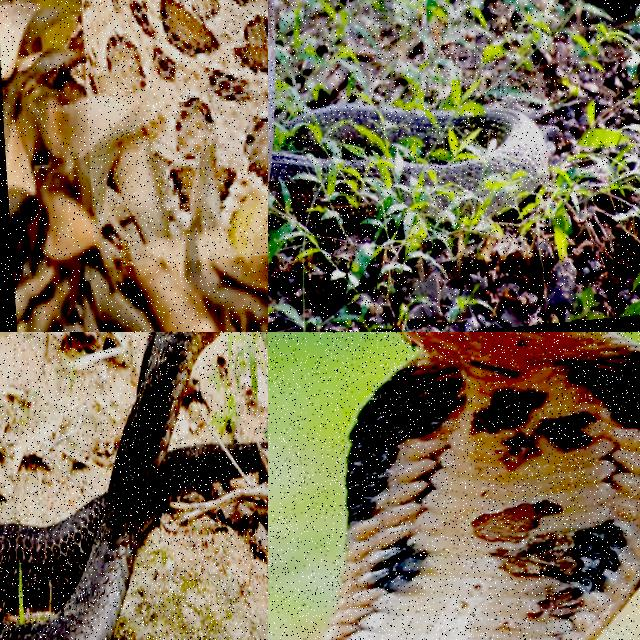Daboia siamensis: (83, 0, 267, 220)
Naja siamensis: (0, 332, 261, 639), (311, 104, 547, 187)
Ophiophagus hannah: (323, 332, 639, 639)
snake: (323, 332, 639, 639), (0, 332, 261, 639), (83, 0, 267, 220), (311, 104, 547, 187)
